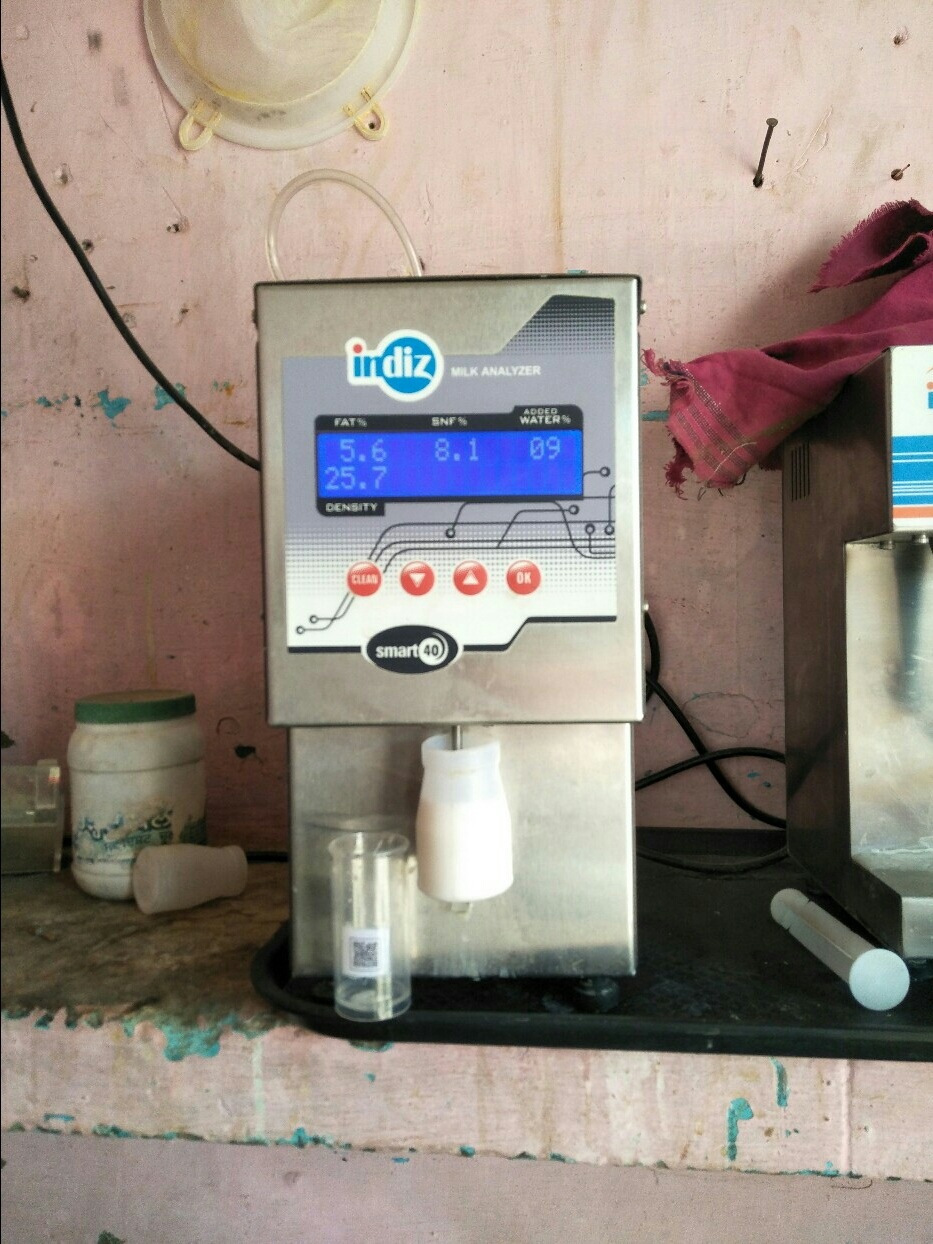lcd: (299, 405, 597, 522)
qr: (335, 931, 401, 989)
